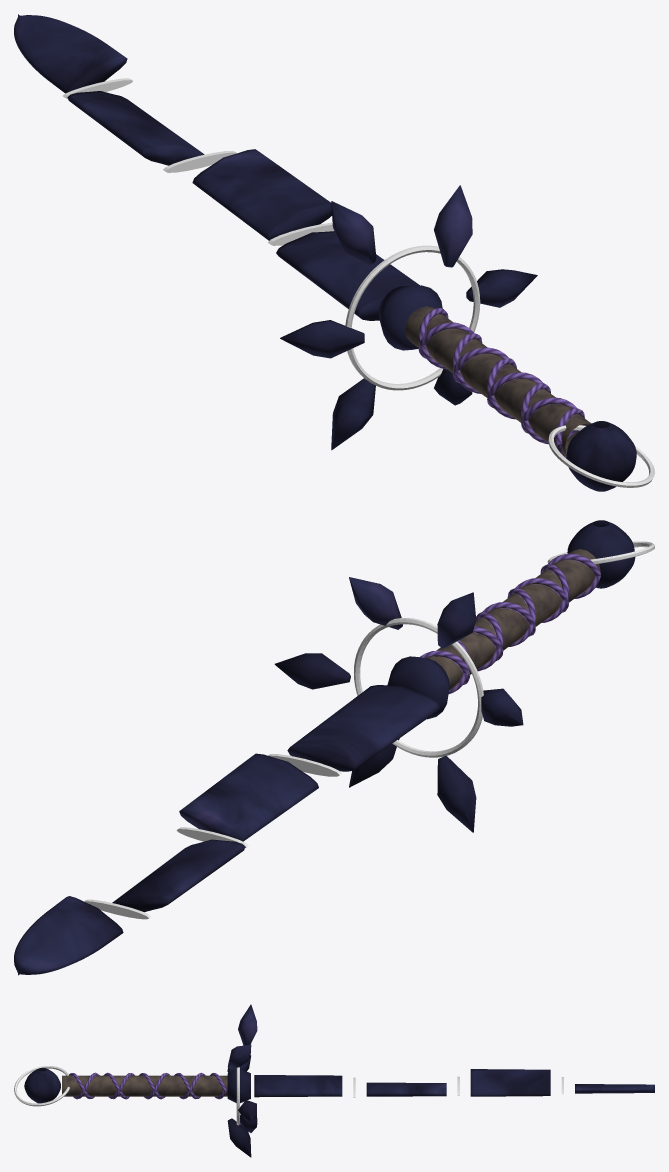
The model's file is Sword9.fbx.
3 views of the same model, one above another, from view 1: azimuth 30°, elevation 25°; view 2: azimuth 150°, elevation 25°; view 3: azimuth 270°, elevation 25° (orthographic). The views are drawn at different scales.
Parts seen in each view (by area): view 1: Sword9_Body, Sword9_Glow_643cff; view 2: Sword9_Body, Sword9_Glow_643cff; view 3: Sword9_Body, Sword9_Glow_643cff.
Part boxes in pixels (x1,y1,x2,y2): Sword9_Body: (14, 14, 636, 491); Sword9_Glow_643cff: (63, 78, 654, 487); Sword9_Body: (14, 520, 635, 975); Sword9_Glow_643cff: (84, 541, 654, 919); Sword9_Body: (24, 1004, 654, 1157); Sword9_Glow_643cff: (14, 1066, 563, 1125).
Bounding box in the file's own units: 1.44 × 1.33 × 6.
Materials: 2 (1 with a texture image).
